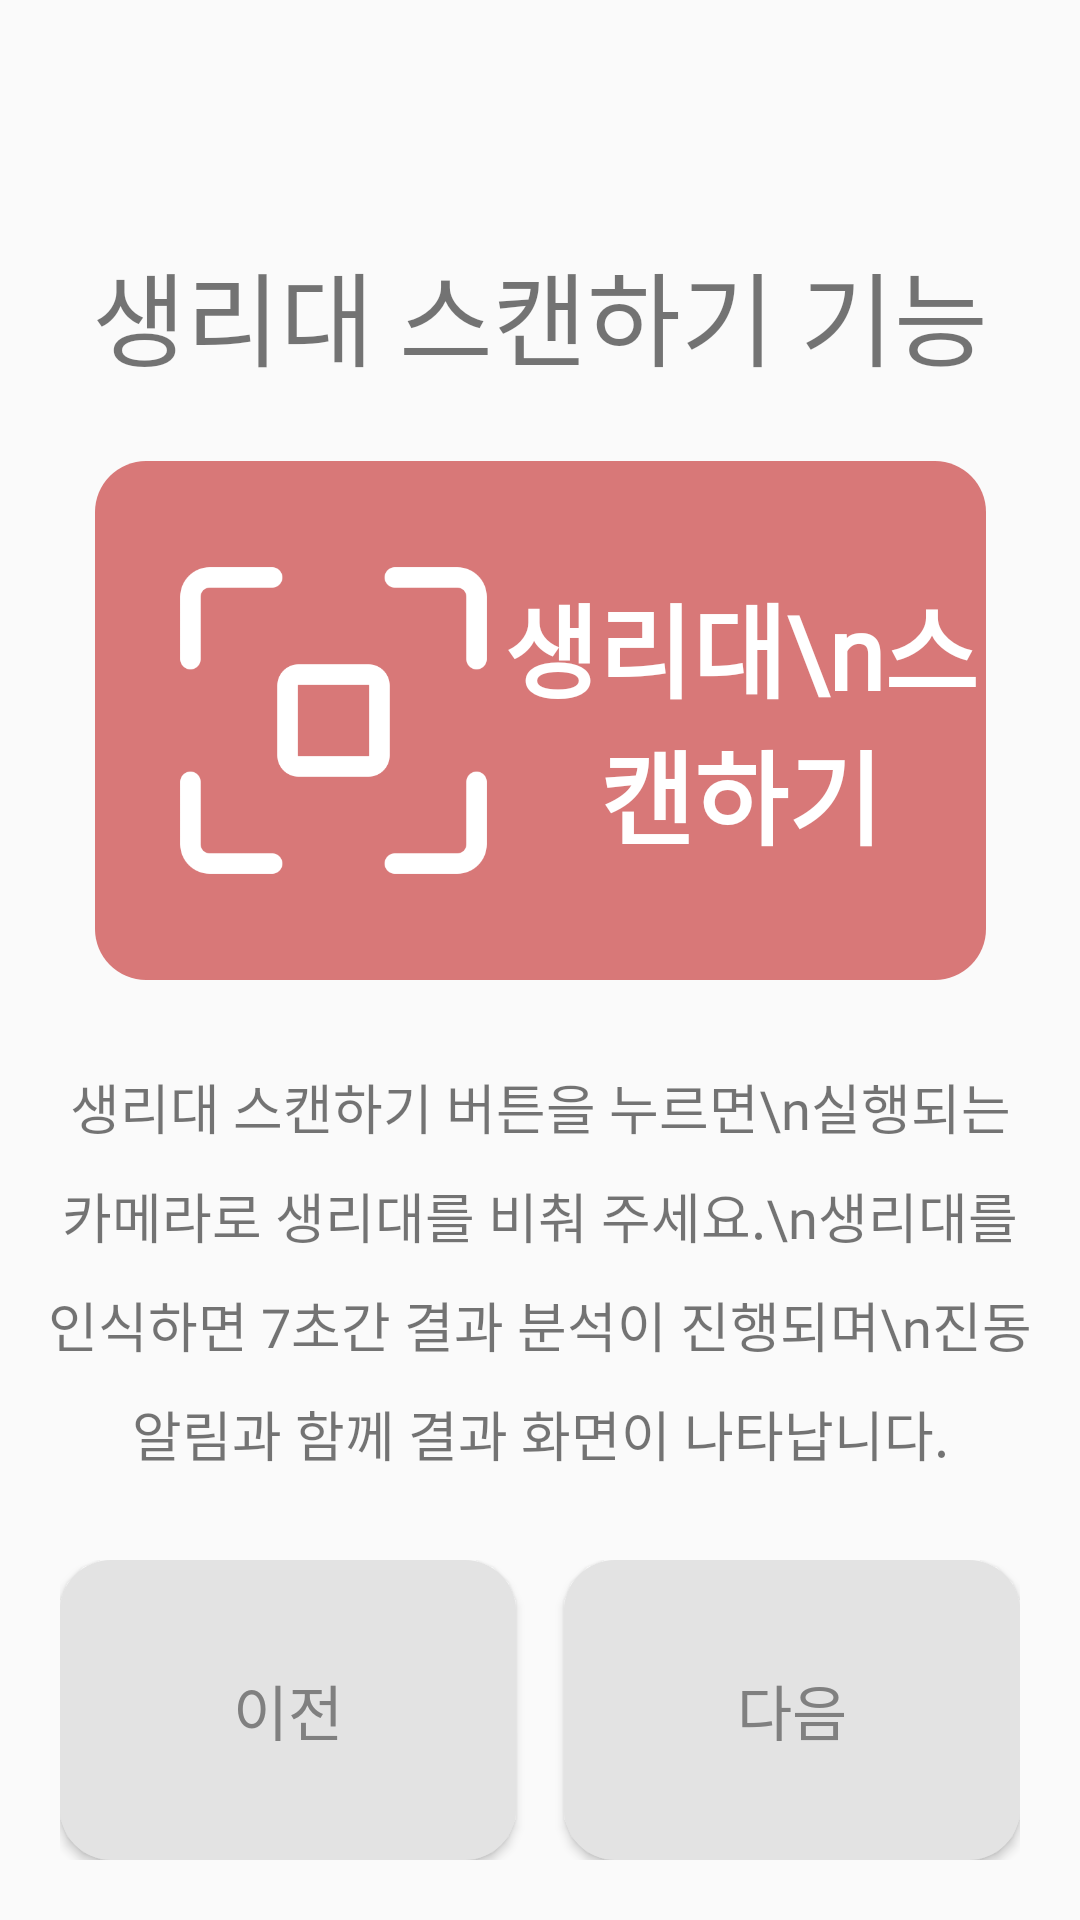

Where to tap for icons on this 1080*1920 app screen, as point (x, y):
scanning: point (333, 720)
